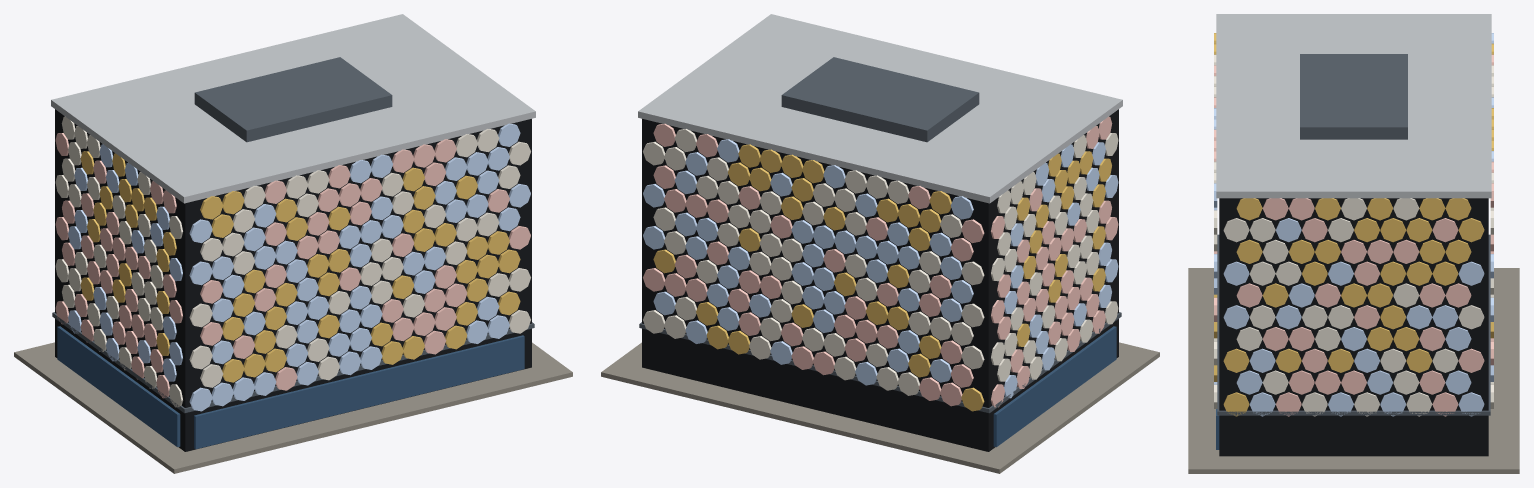
The model's file is galleria-west.glb.
The picture shows the model from 3 angles, left to right: view 1: azimuth 30°, elevation 25°; view 2: azimuth 150°, elevation 25°; view 3: azimuth 270°, elevation 25°; orthographic projection. The views are drawn at different scales.
Bounding box in the file's own units: 46 × 30.1 × 32.
